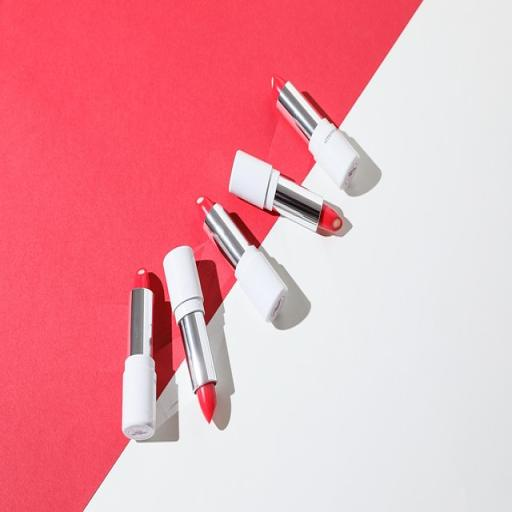lipstick: (197, 197, 287, 321), (272, 76, 359, 189), (229, 150, 342, 232), (164, 246, 216, 423), (122, 269, 155, 440)
